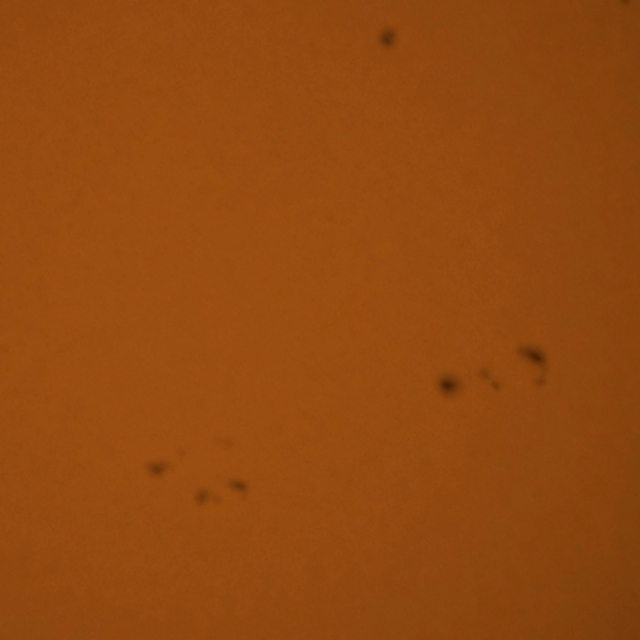sunspot: (514, 343, 548, 374), (435, 371, 460, 401), (475, 367, 502, 394), (376, 25, 398, 52), (145, 458, 168, 480), (226, 476, 249, 498)
